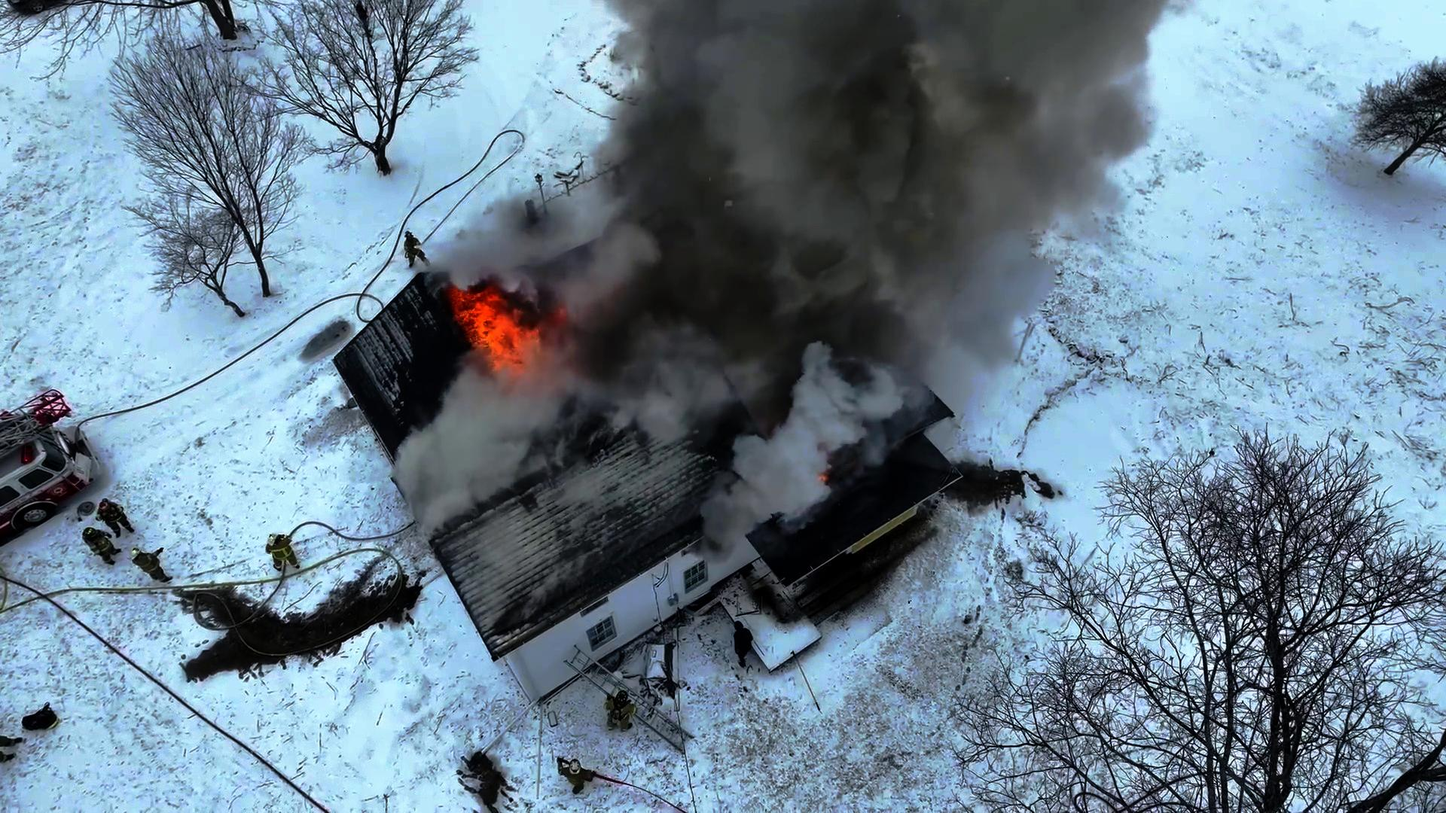fire: (693, 0, 989, 349), (447, 266, 560, 381)
